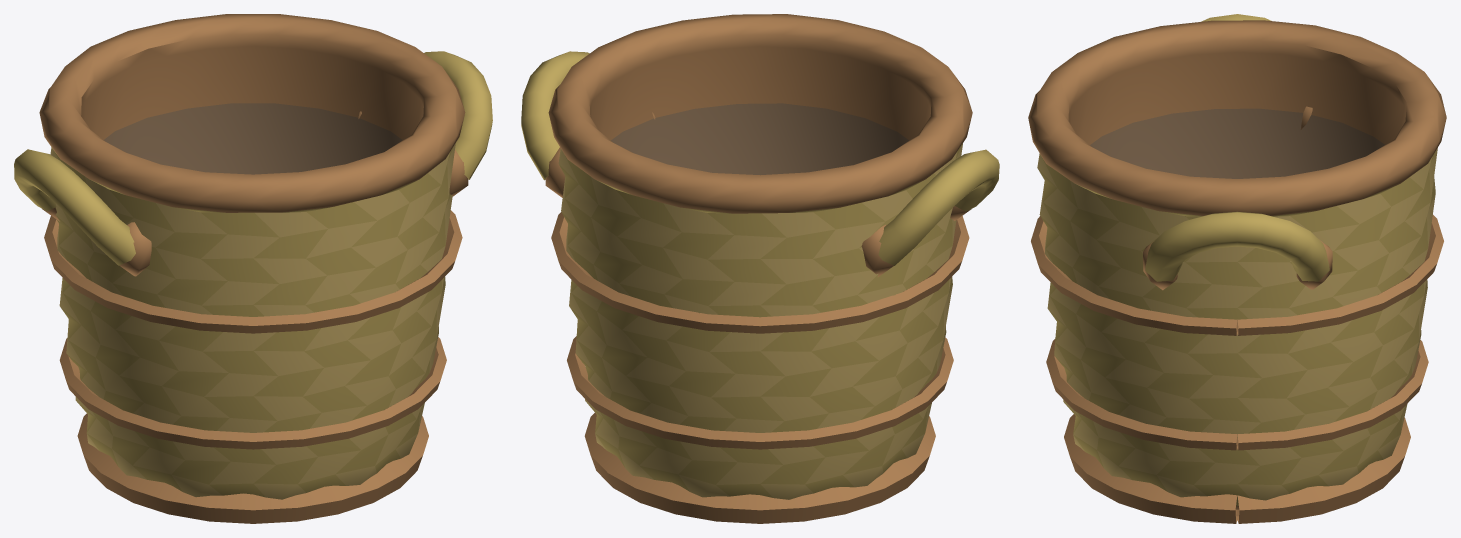
The model's file is basket.glb.
The picture shows the model from 3 angles, left to right: view 1: azimuth 30°, elevation 25°; view 2: azimuth 150°, elevation 25°; view 3: azimuth 270°, elevation 25°; orthographic projection.
Visible parts, largest first — view 1: basket; view 2: basket; view 3: basket.
Part boxes in pixels (x1=…): basket: x1=14, y1=14, x2=492, y2=523; basket: x1=521, y1=14, x2=999, y2=523; basket: x1=1028, y1=14, x2=1446, y2=523.
Size of what is drawn, in the model's own units: 0.6391 by 0.499 by 0.5329.
